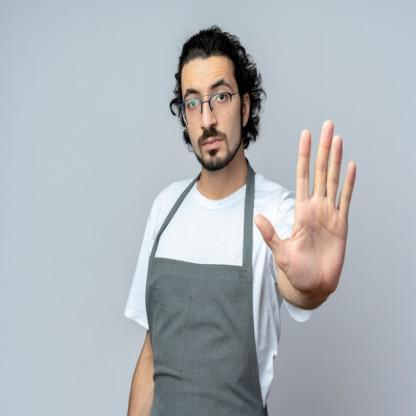stop: (252, 116, 360, 300)
